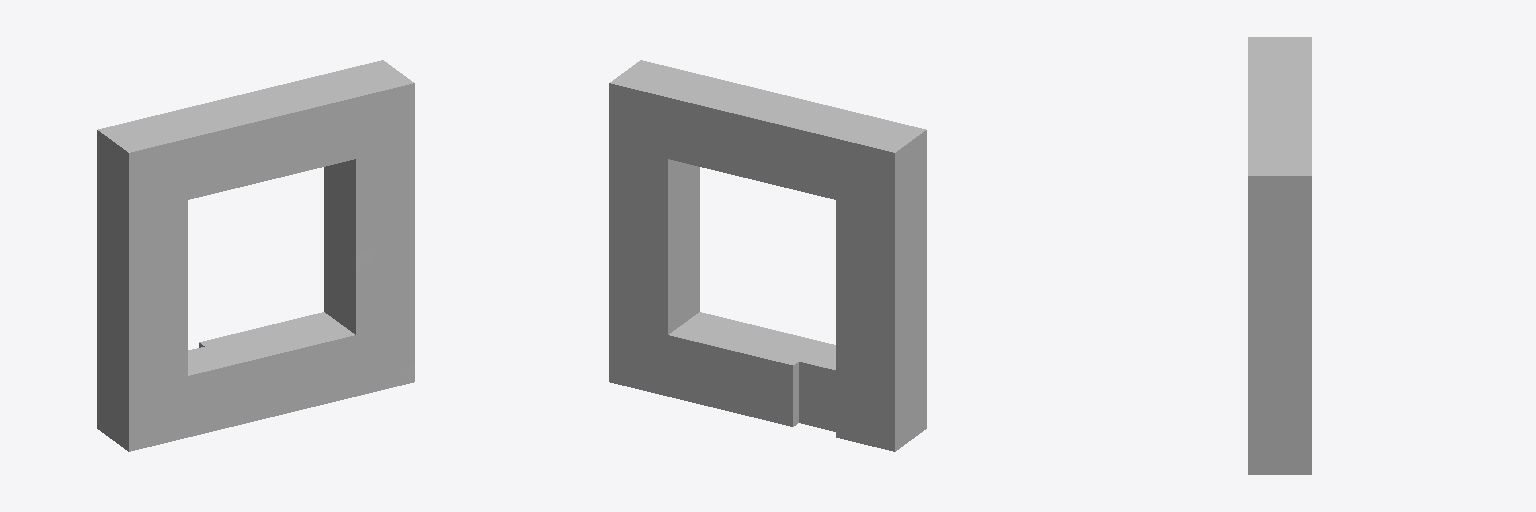
The model's file is dual_tiny.dt.obj.
3 views of the same model, side by side, from view 1: azimuth 30°, elevation 25°; view 2: azimuth 150°, elevation 25°; view 3: azimuth 270°, elevation 25° (orthographic).
Bounding box in the file's own units: 23.8 × 23.8 × 4.57.